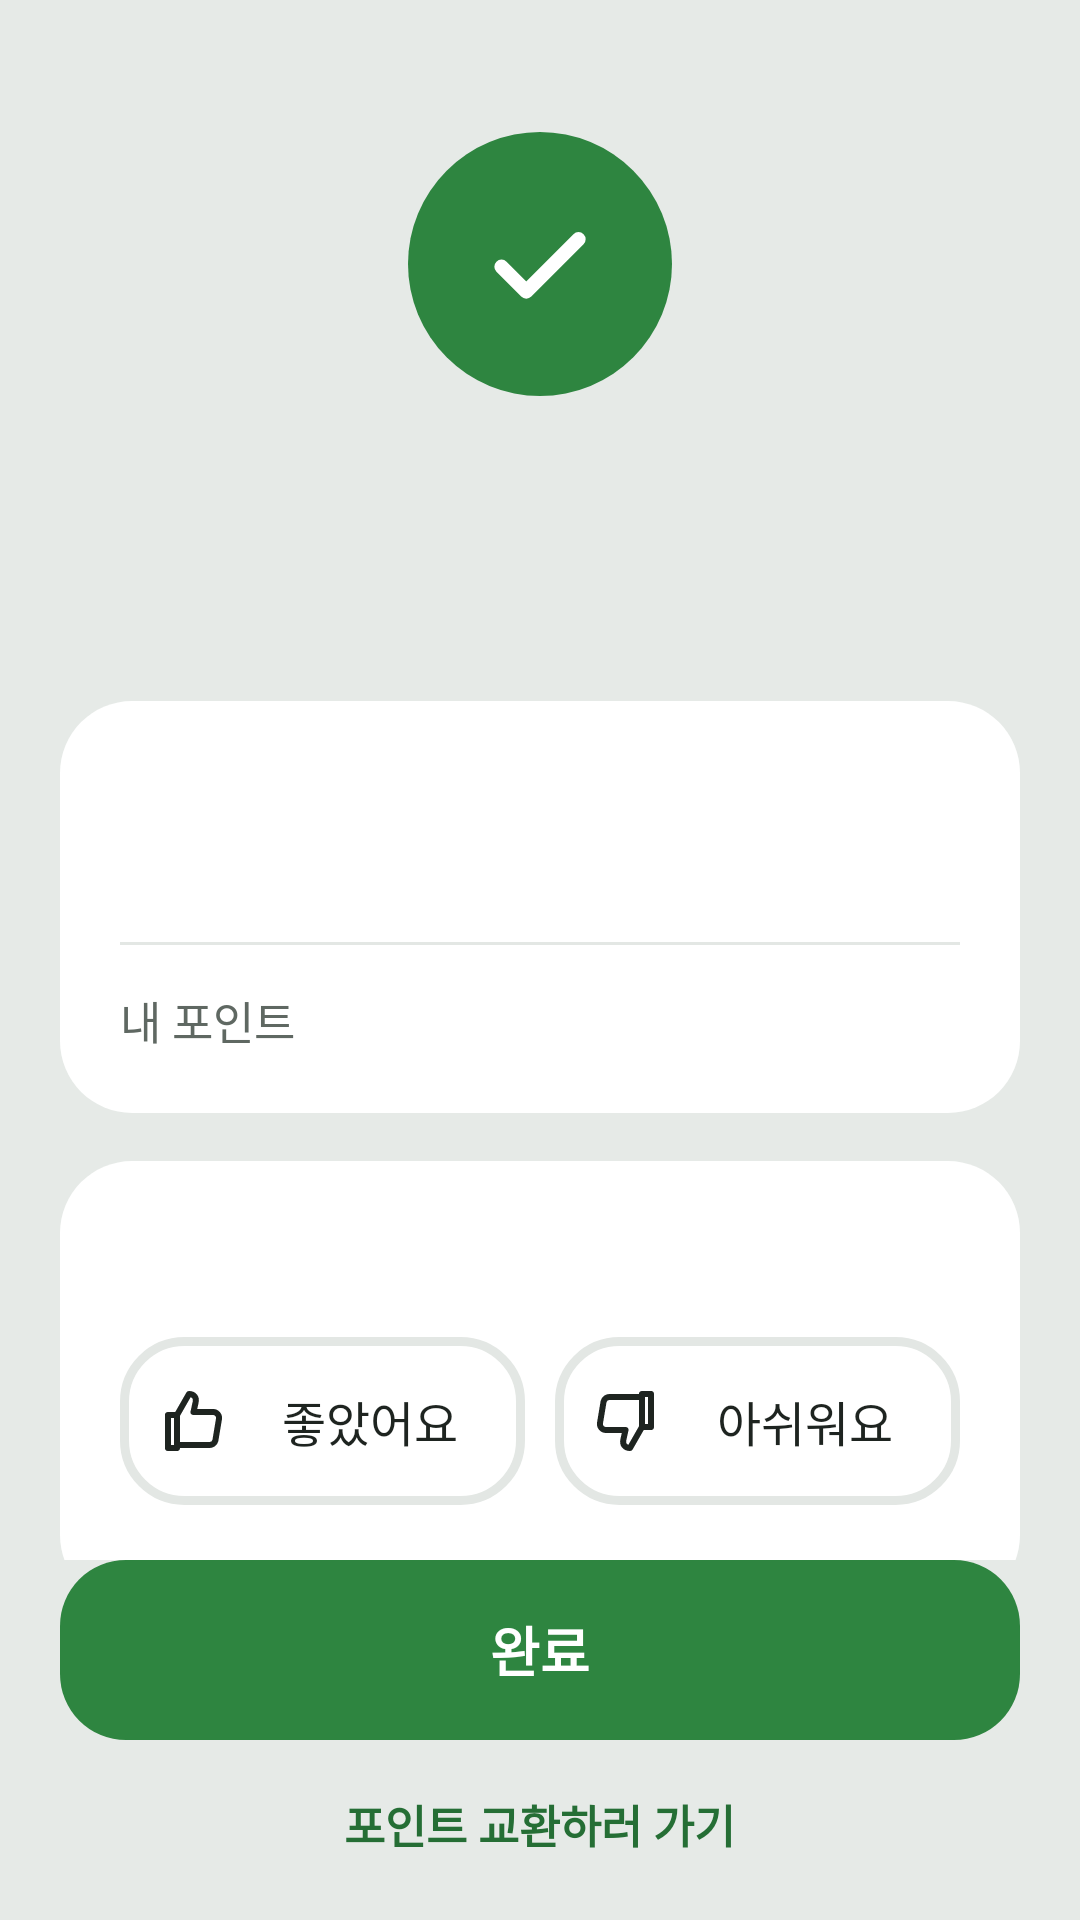

Locate icon controls on the screen. Image size 1080px×1920px, boxes as {"x1": x1, "y1": y1, "x2": x2, "y2": y2}.
check: {"x1": 408, "y1": 132, "x2": 672, "y2": 396}
